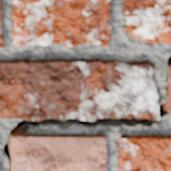brick: (0, 59, 156, 119), (12, 0, 110, 46), (12, 134, 107, 170), (122, 0, 170, 42), (119, 135, 170, 170), (0, 0, 3, 47), (168, 69, 170, 119)
crack: (2, 83, 168, 170), (165, 54, 170, 94)
